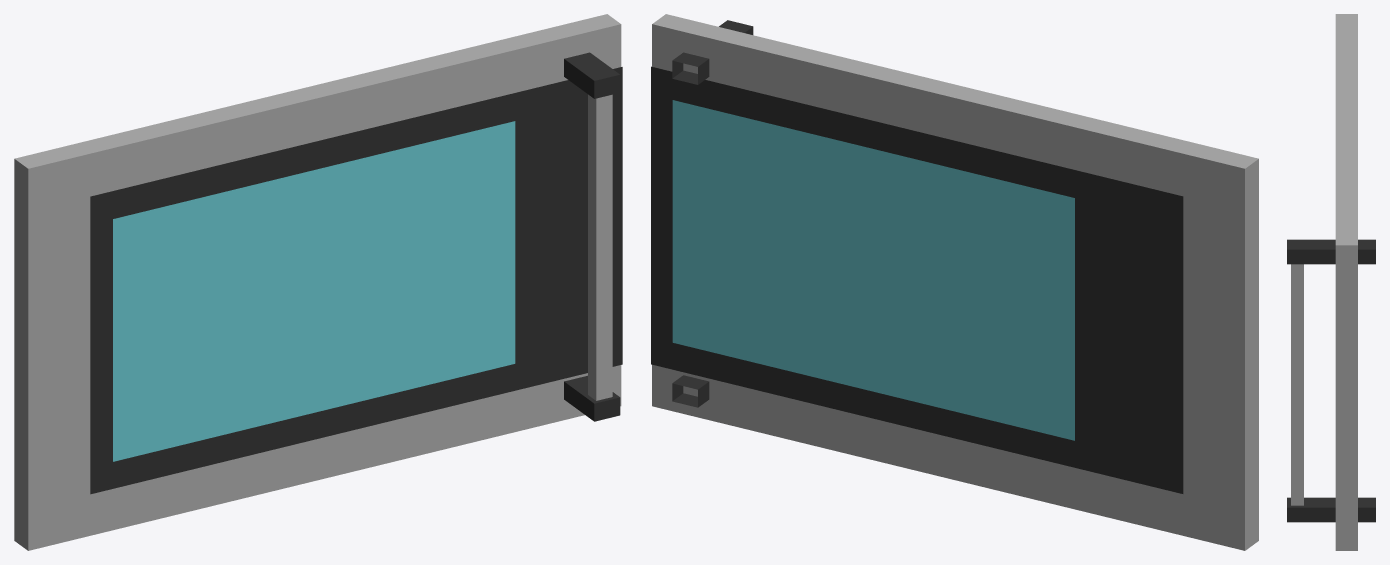
File: Microondas_Puerta.fbx
The picture shows the model from 3 angles, left to right: view 1: azimuth 30°, elevation 25°; view 2: azimuth 150°, elevation 25°; view 3: azimuth 270°, elevation 25°; orthographic projection. The views are drawn at different scales.
Parts seen in each view (by area): view 1: Microondas_Puerta; view 2: Microondas_Puerta; view 3: Microondas_Puerta.
Boxes of the visible parts, x1,y1,x2,y2 form: Microondas_Puerta: [14, 14, 622, 550]; Microondas_Puerta: [651, 14, 1258, 550]; Microondas_Puerta: [1287, 14, 1375, 550].
Bounding box in the file's own units: 29.89 × 18.39 × 4.84.
